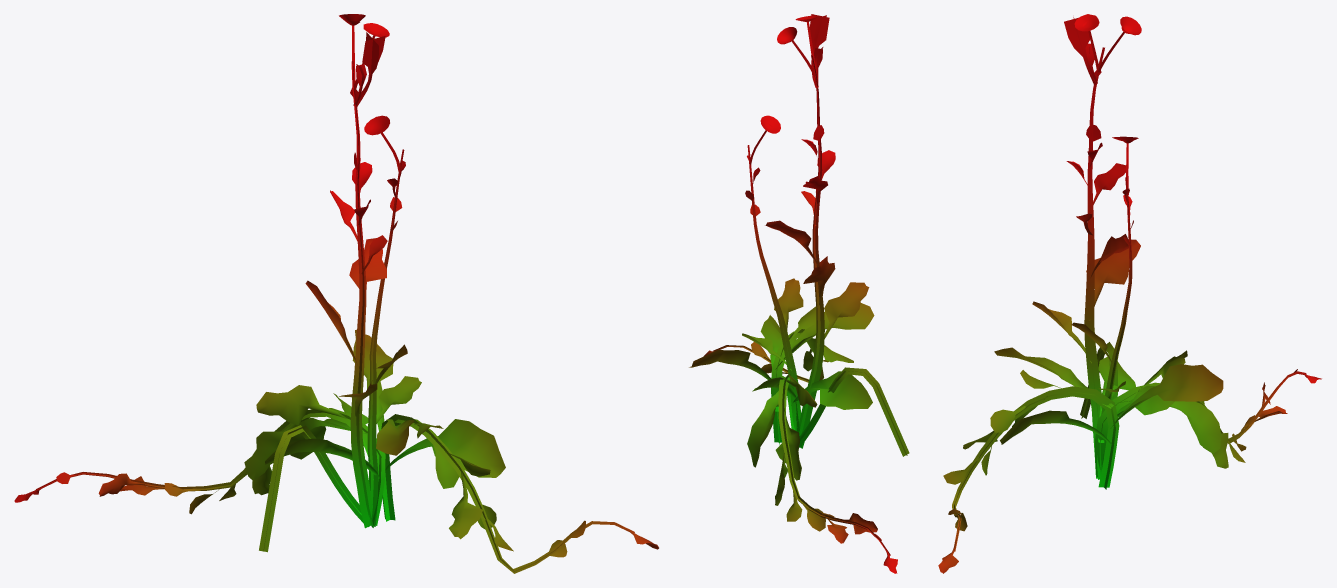
Rendered from Sowthistle_LOD0_Var5_tgdqciyr.fbx.
3 renders of one model, left to right at view 1: azimuth 30°, elevation 25°; view 2: azimuth 150°, elevation 25°; view 3: azimuth 270°, elevation 25°, orthographic. The views are drawn at different scales.
Visible parts, largest first — view 1: _434b_Var5_LOD0; view 2: _434b_Var5_LOD0; view 3: _434b_Var5_LOD0.
Part boxes in pixels (bbox=[...]): _434b_Var5_LOD0: bbox=[14, 14, 658, 573]; _434b_Var5_LOD0: bbox=[689, 14, 909, 573]; _434b_Var5_LOD0: bbox=[938, 14, 1321, 573].
Size of the model in its own units: 56.19 by 64.68 by 47.3.
